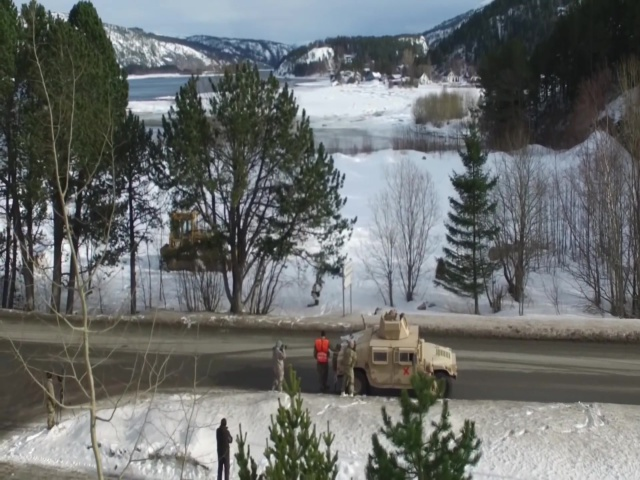person: (214, 418, 235, 479), (310, 330, 330, 390), (339, 338, 357, 401), (268, 339, 287, 397)
vehicle: (322, 317, 460, 399)
